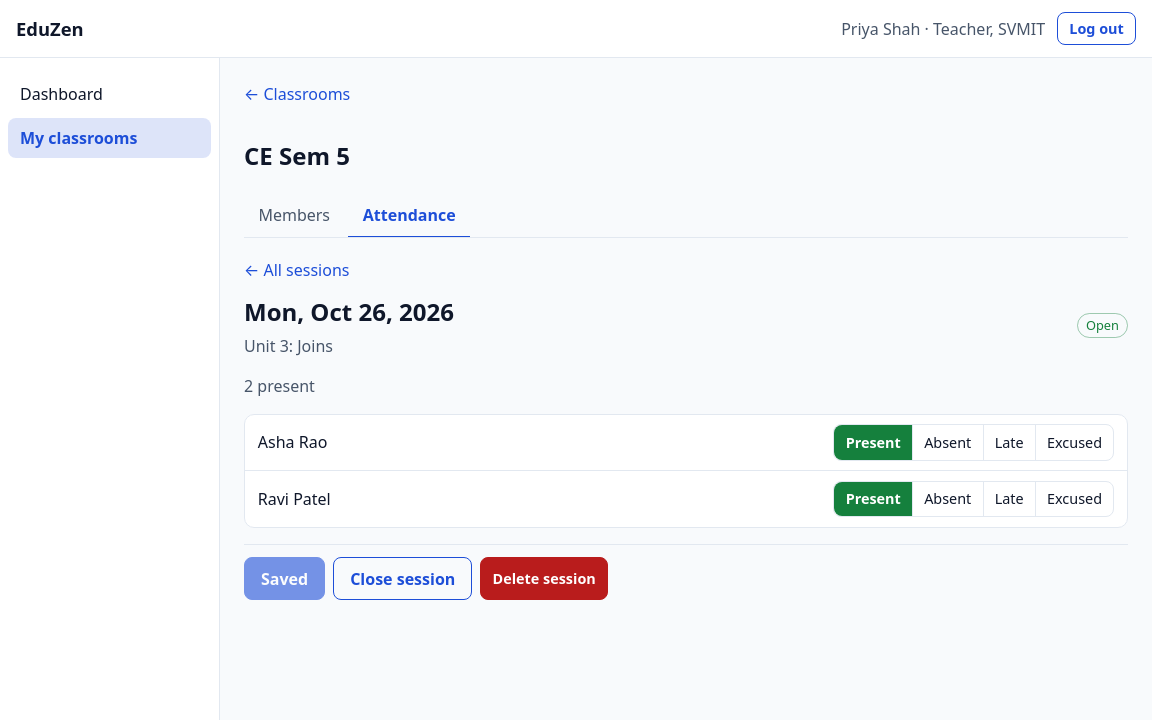
marking screen › closes a fully marked session
The image size is (1152, 720).
Click the button "Close session". click: (403, 579)
box: [333, 557, 472, 600]
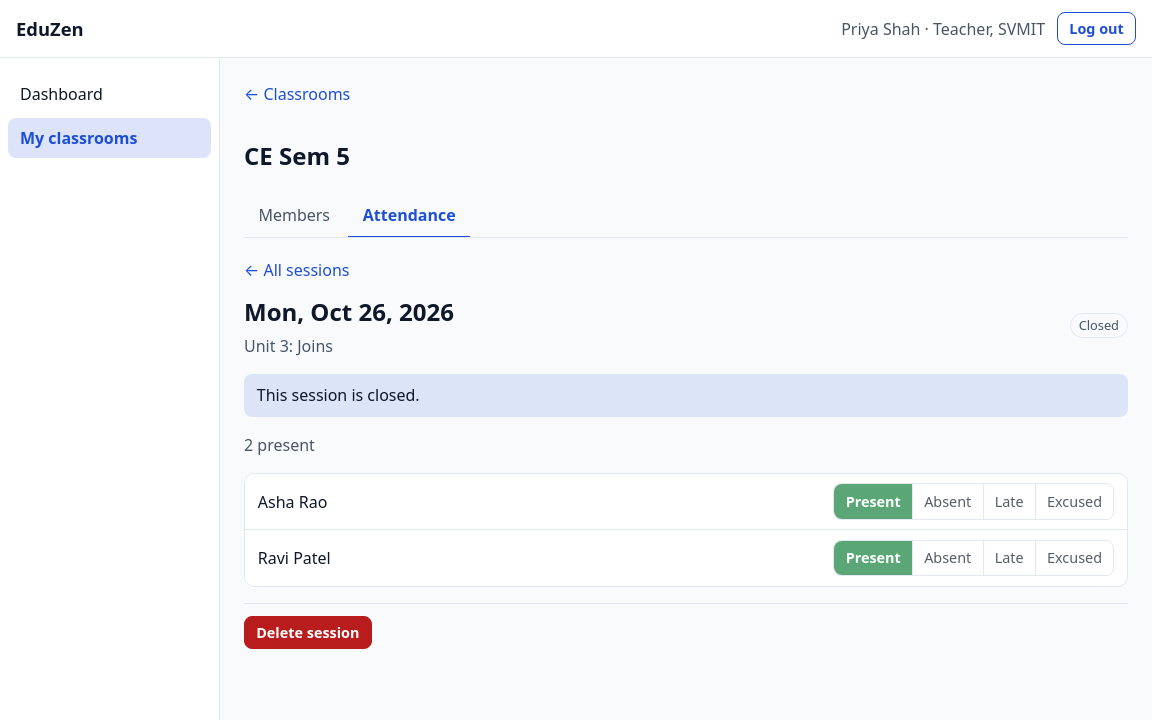
Expected: the radio button labelled "Present" in the row of "Ravi Patel" is disabled, [834, 541, 912, 575]
Expected: the text "This session is closed." is shown, [244, 374, 1128, 417]
Expected: the button "Save" is gone
